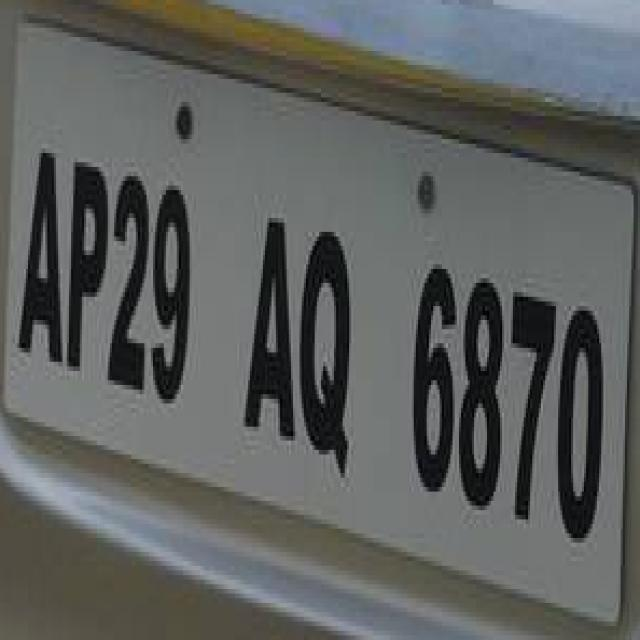license_plate: (0, 37, 616, 556)
